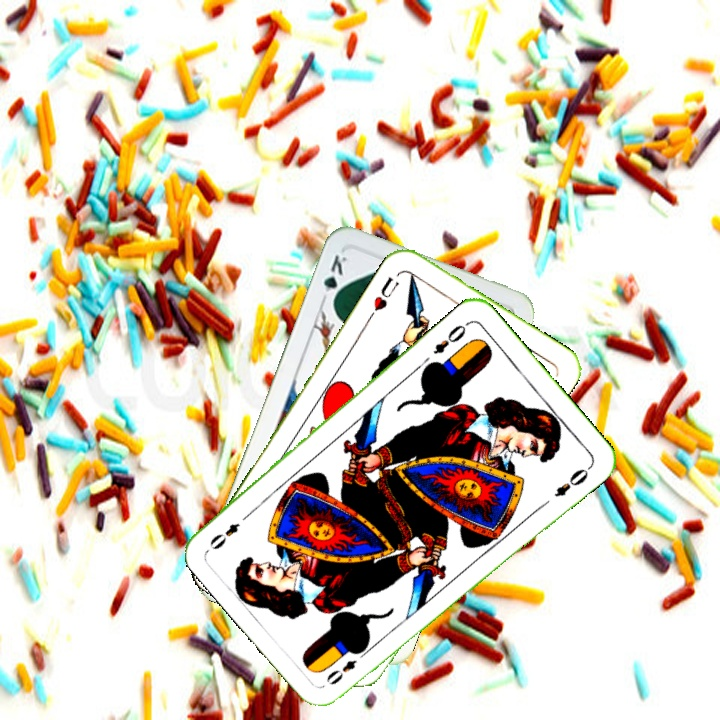EO: (322, 645, 371, 688), (429, 317, 472, 357)
GK: (317, 251, 350, 308)
HU: (365, 272, 402, 321)
